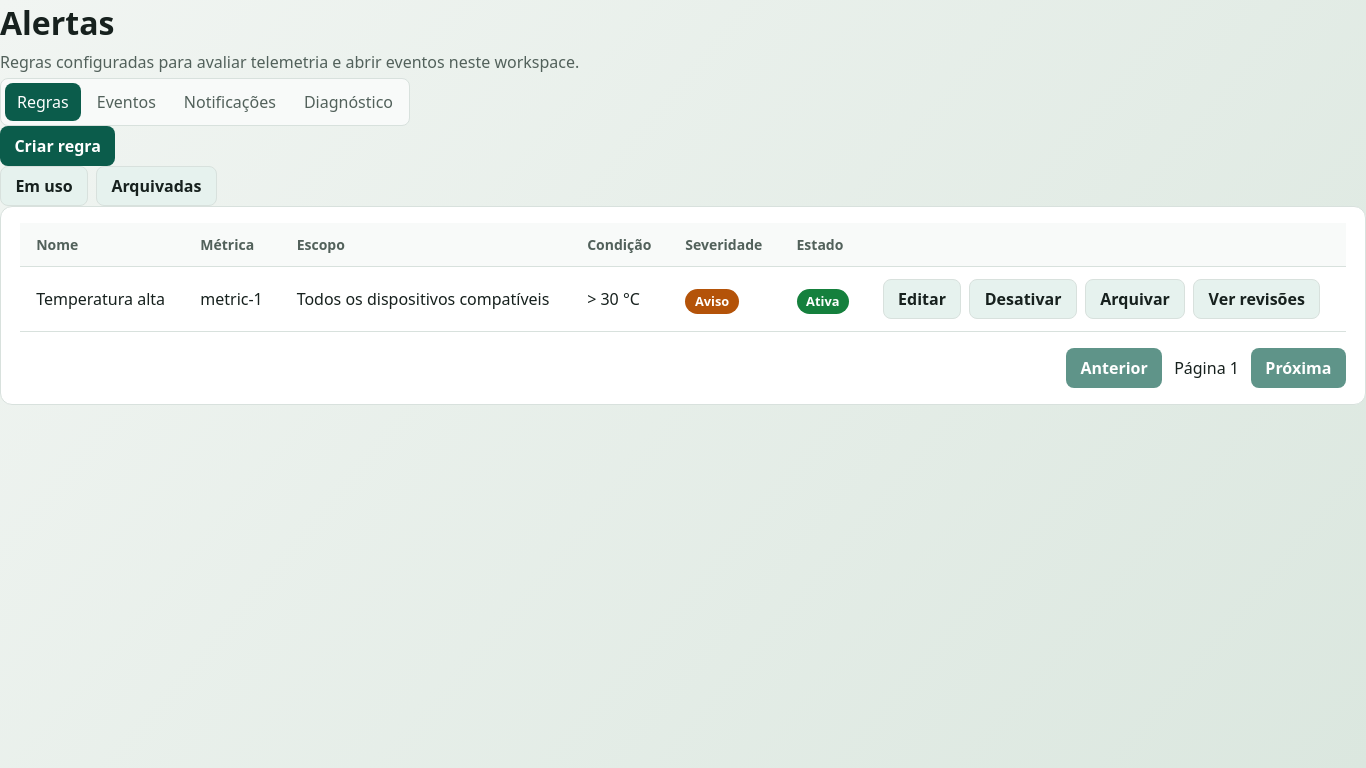
Test: arquivamento de regras › mantém a regra e mostra o conflito quando o arquivamento falha
The image size is (1366, 768).
Click the button "Arquivar": [1135, 299] box 1085,279 -> 1185,319
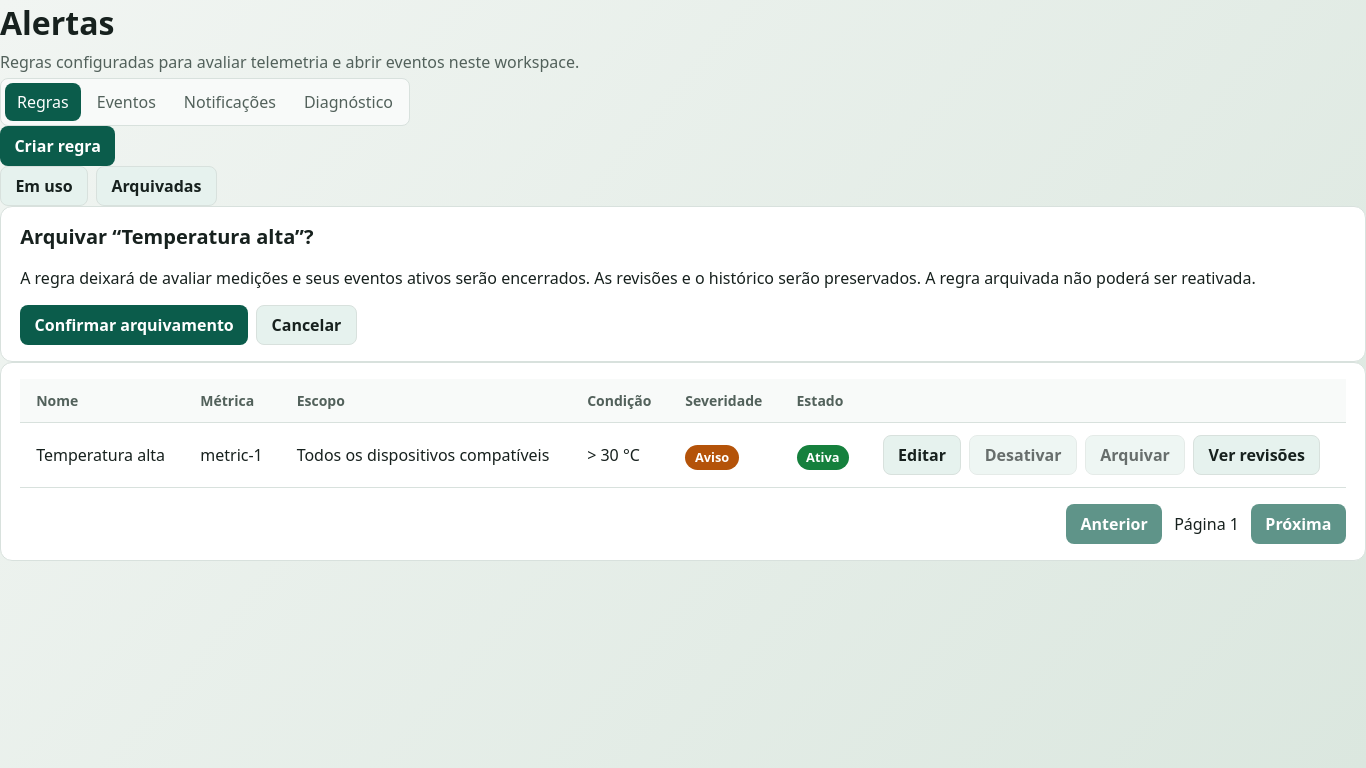
Click the button "Confirmar arquivamento": [134, 325] box 20,305 -> 248,345
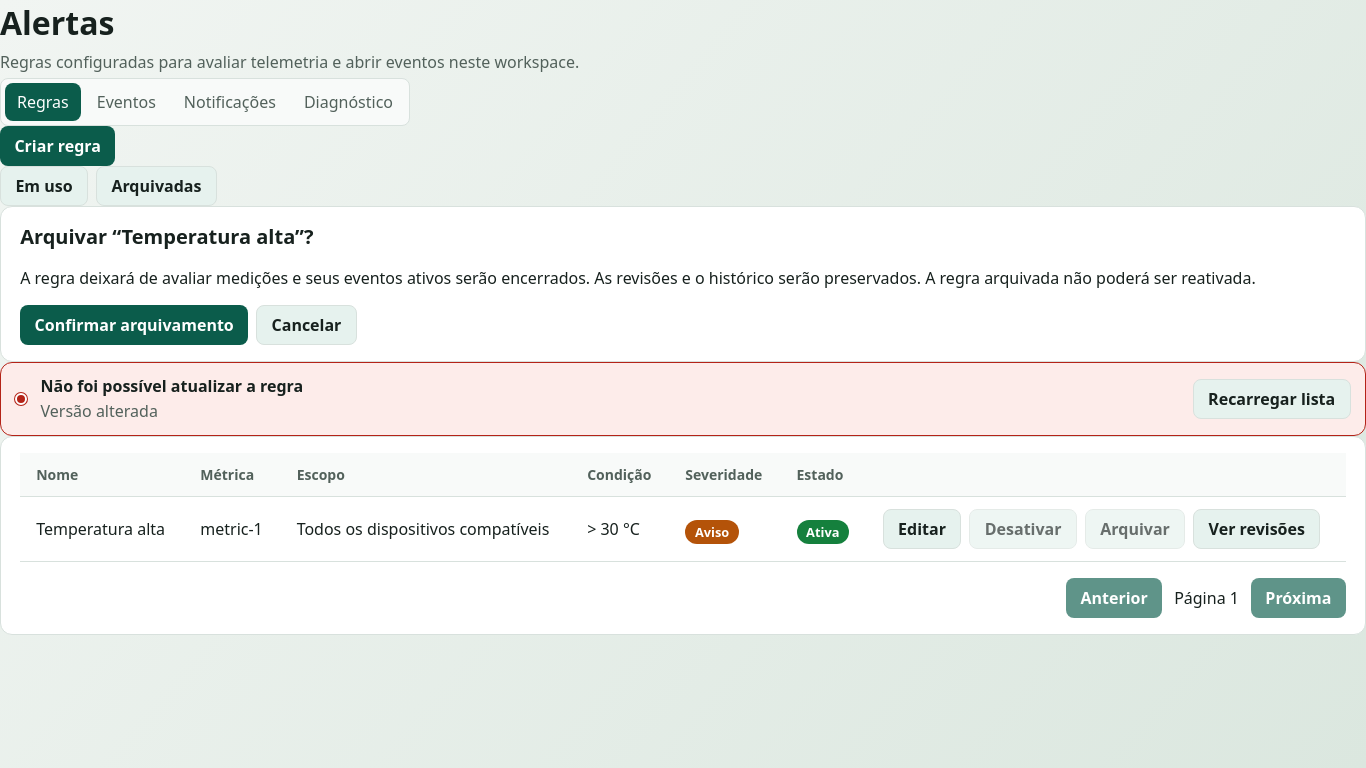
expect the table shows "Temperatura alta": met, box 36,518 -> 165,540
expect the dialog is shown: met, box 0,206 -> 1365,362
expect the text "Não foi possível atualizar a regra" is shown: met, box 40,375 -> 303,397
